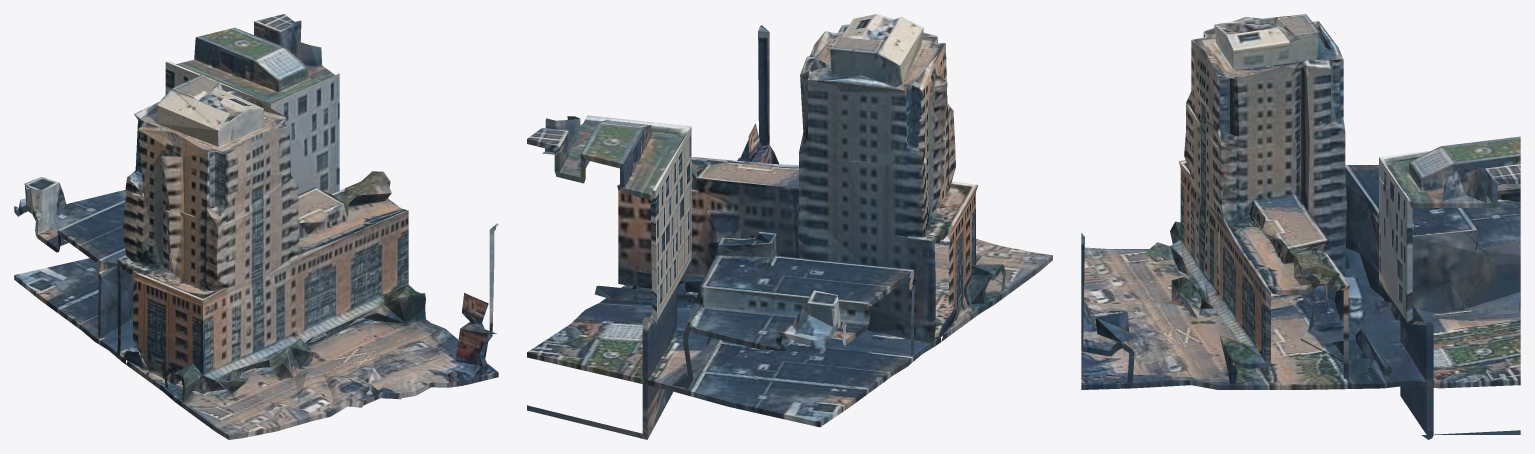
File: chunk_4_-2.glb
3 renders of one model, left to right at view 1: azimuth 30°, elevation 25°; view 2: azimuth 150°, elevation 25°; view 3: azimuth 270°, elevation 25°, orthographic. The views are drawn at different scales.
Parts seen in each view (by area): view 1: hero-chunk; view 2: hero-chunk; view 3: hero-chunk.
Boxes of the visible parts, x1,y1,x2,y2 form: hero-chunk: (14, 14, 498, 439); hero-chunk: (527, 14, 1052, 439); hero-chunk: (1081, 14, 1520, 439).
Bounding box in the file's own units: 55.42 × 60.83 × 76.32.
Materials: 3 (3 with a texture image).
